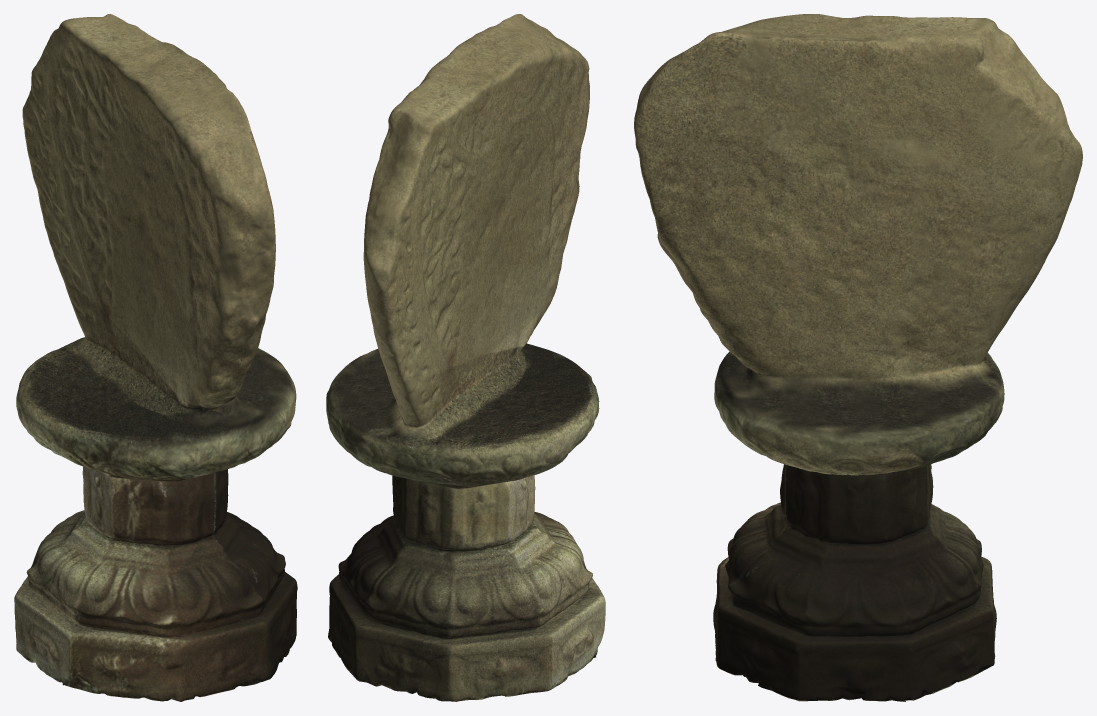
Rendered from SM_Stone_Pedestal.FBX.
3 renders of one model, left to right at view 1: azimuth 30°, elevation 25°; view 2: azimuth 150°, elevation 25°; view 3: azimuth 270°, elevation 25°, orthographic. The views are drawn at different scales.
Parts seen in each view (by area): view 1: SM_Stone_Pedestal; view 2: SM_Stone_Pedestal; view 3: SM_Stone_Pedestal.
Boxes of the visible parts, x1,y1,x2,y2 form: SM_Stone_Pedestal: [14, 14, 297, 701]; SM_Stone_Pedestal: [326, 14, 605, 701]; SM_Stone_Pedestal: [634, 14, 1082, 701].
Size of the model in its own units: 104 by 244 by 161.
